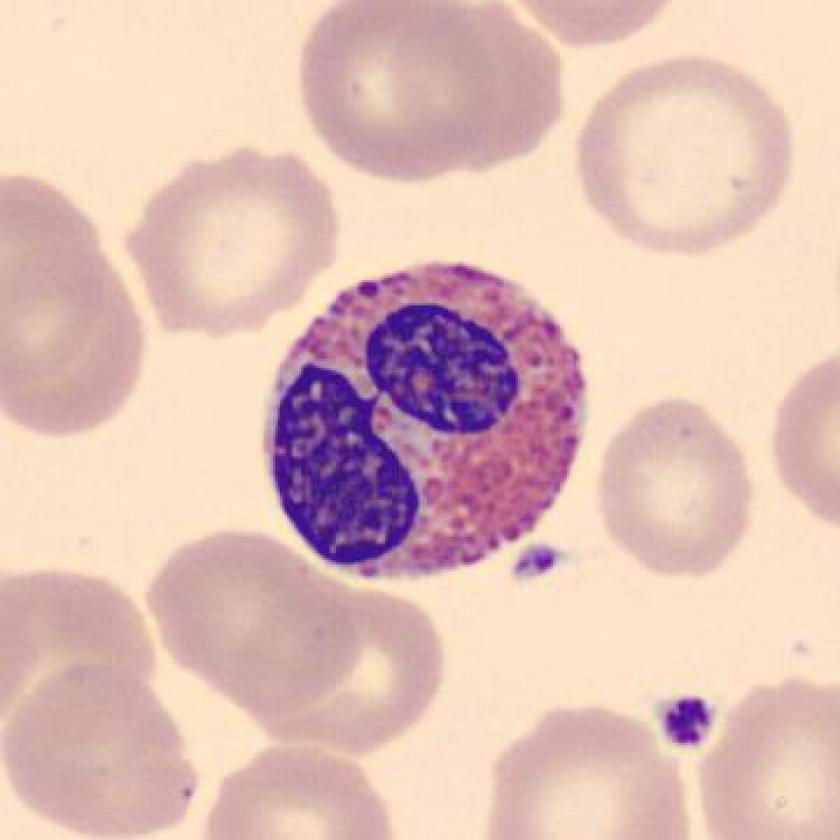eosinophil: (246, 251, 603, 596)
